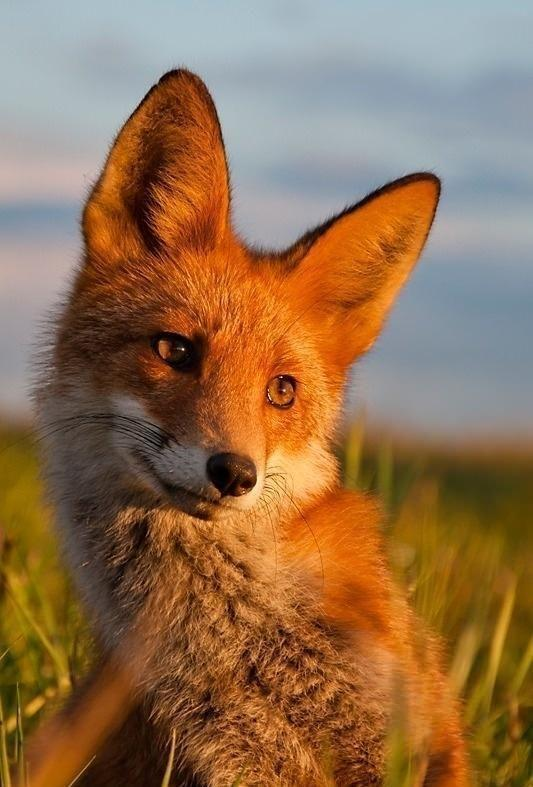fox: (47, 70, 476, 787)
